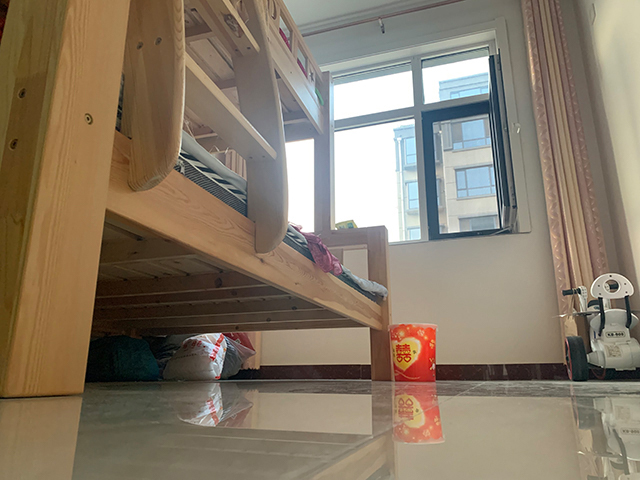bed: (1, 1, 394, 399)
curtain: (521, 1, 607, 315)
trashcan: (391, 320, 438, 383)
